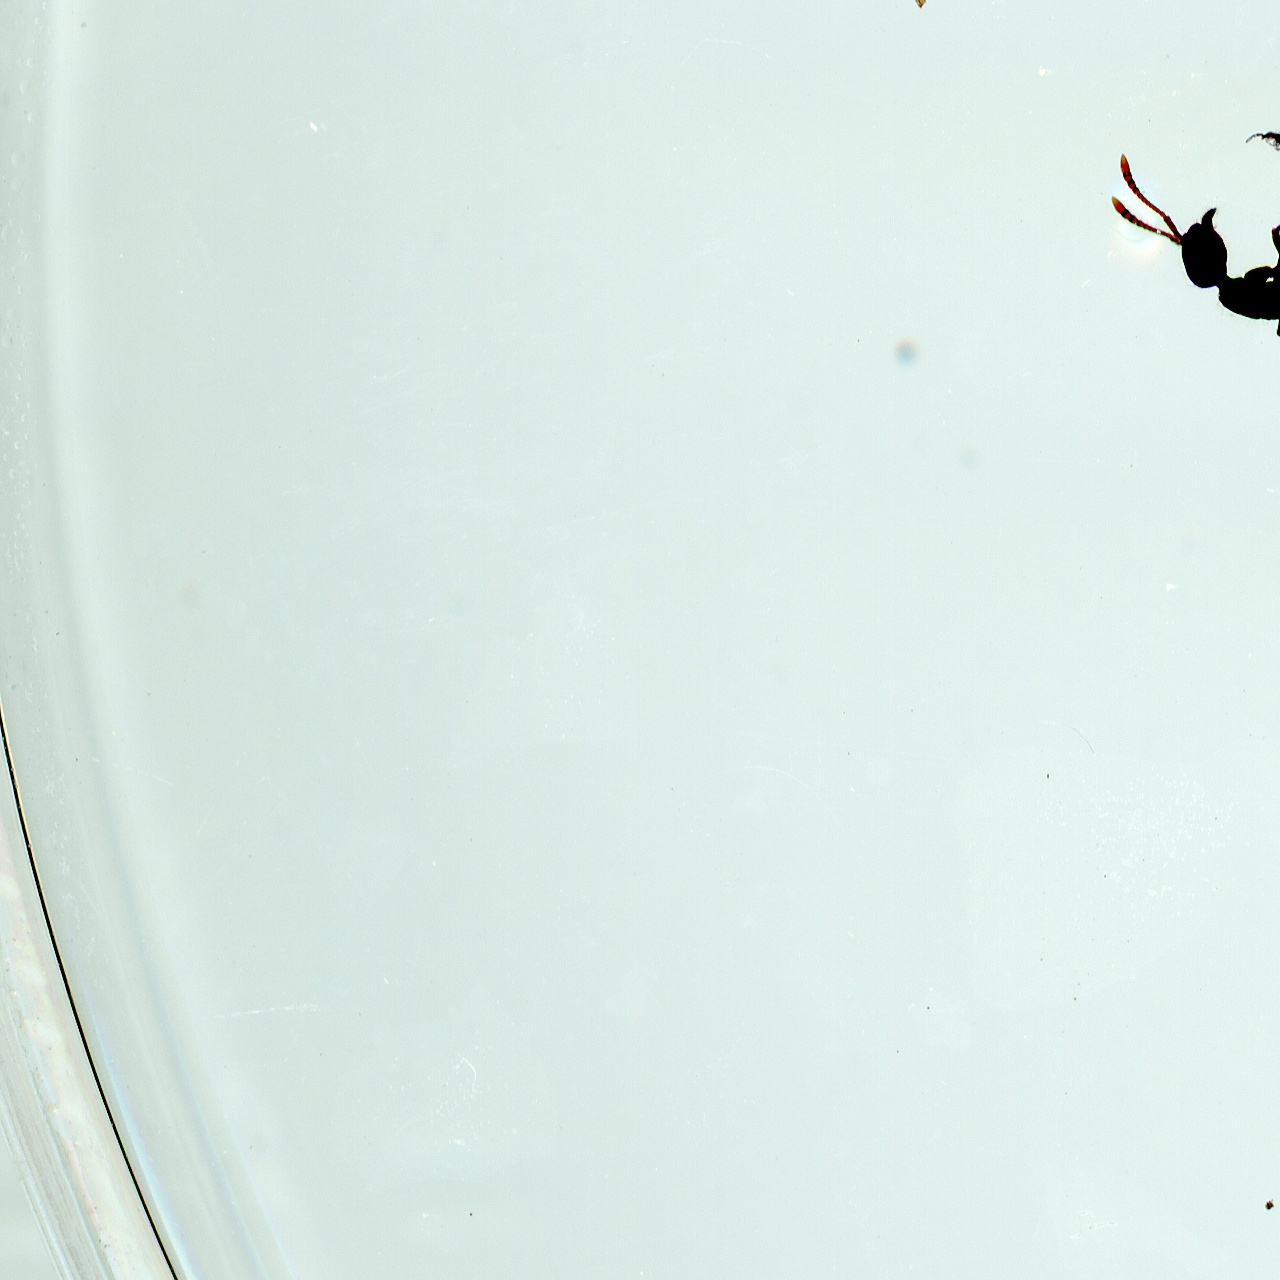arthropod: (1108, 148, 1280, 349), (1237, 128, 1280, 157)
